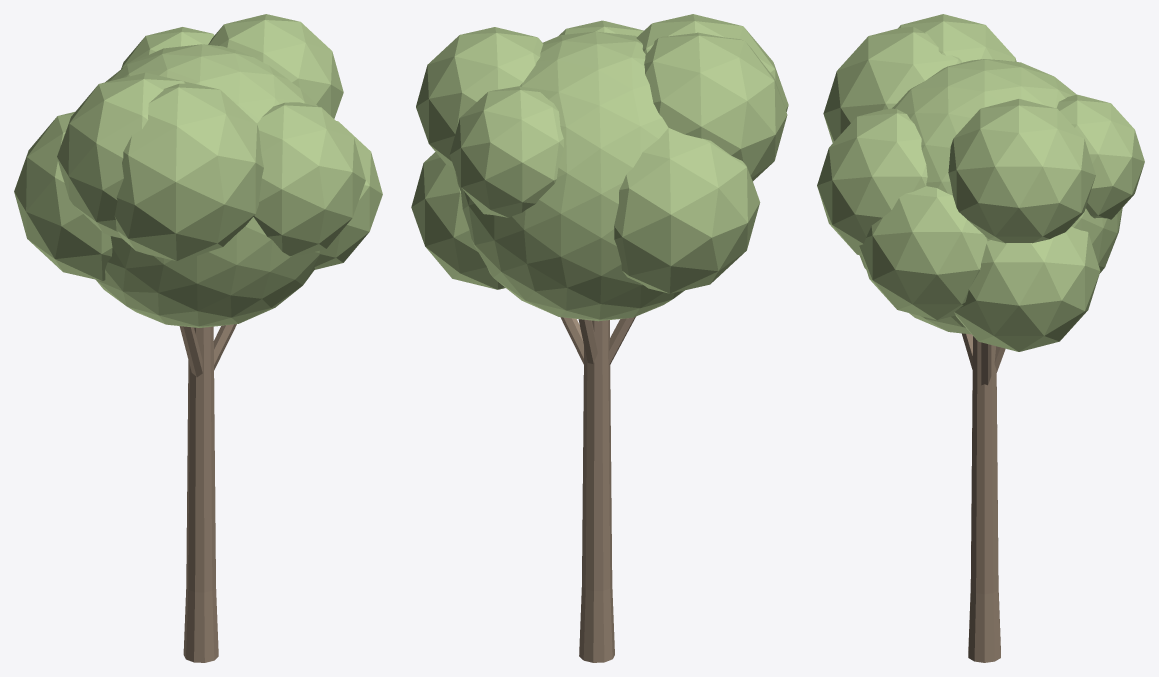
The model's file is tree_b.glb.
3 renders of one model, left to right at view 1: azimuth 30°, elevation 25°; view 2: azimuth 150°, elevation 25°; view 3: azimuth 270°, elevation 25°, orthographic. The views are drawn at different scales.
Visible parts, largest first — view 1: tree_b_leaf2, tree_b_bark; view 2: tree_b_leaf2, tree_b_bark; view 3: tree_b_leaf2, tree_b_bark.
Boxes of the visible parts, x1,y1,x2,y2 form: tree_b_leaf2: [14, 14, 382, 327]; tree_b_bark: [179, 324, 236, 662]; tree_b_leaf2: [411, 14, 788, 321]; tree_b_bark: [560, 316, 635, 662]; tree_b_leaf2: [817, 14, 1144, 351]; tree_b_bark: [961, 333, 1005, 662].
Bounding box in the file's own units: 2.67 × 4.95 × 2.47.
